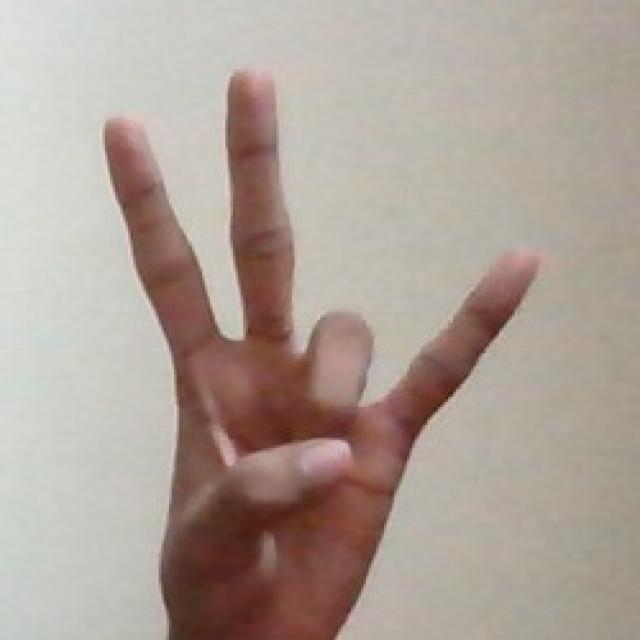Numeric-7: (97, 59, 542, 622)
